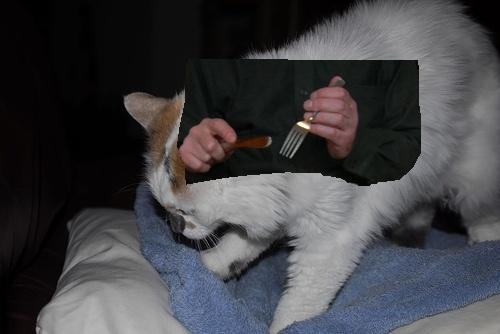tampered: (178, 60, 421, 186)
